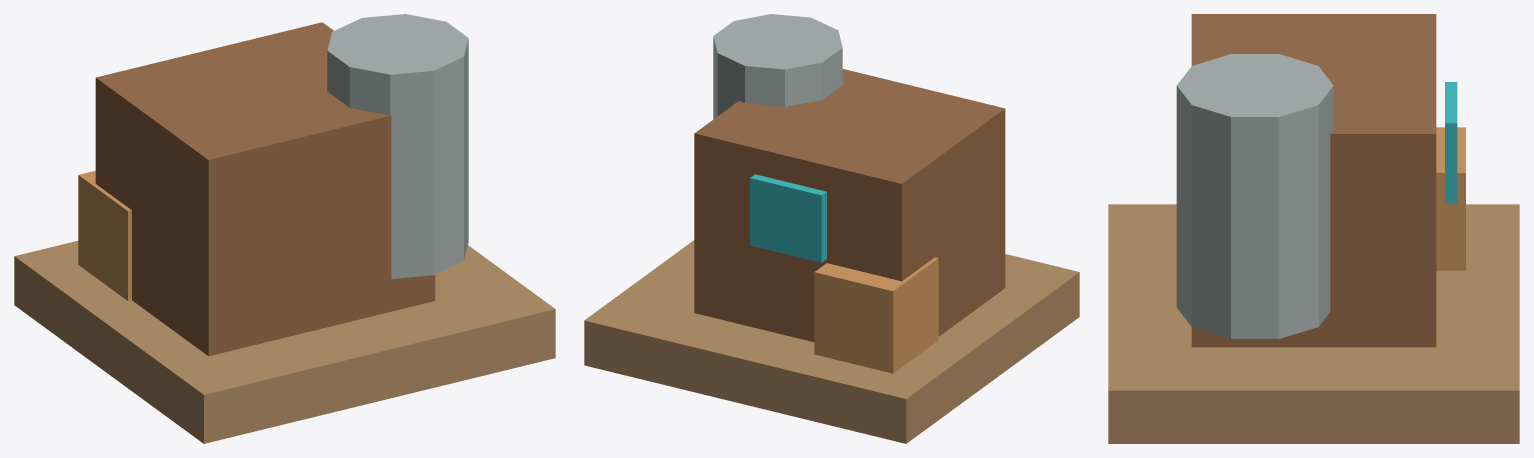
File: collection_station.glb
3 renders of one model, left to right at view 1: azimuth 30°, elevation 25°; view 2: azimuth 150°, elevation 25°; view 3: azimuth 270°, elevation 25°, orthographic. The views are drawn at different scales.
Parts seen in each view (by area): view 1: shed, foundation, tank, crate; view 2: shed, foundation, crate, tank, panel; view 3: foundation, shed, tank, crate, panel.
Boxes of the visible parts, bbox=[...] form: shed: bbox=[95, 22, 435, 356]; foundation: bbox=[14, 240, 555, 443]; tank: bbox=[327, 14, 468, 278]; crate: bbox=[78, 170, 131, 300]; shed: bbox=[694, 69, 1005, 342]; foundation: bbox=[584, 240, 1079, 443]; crate: bbox=[814, 257, 938, 373]; tank: bbox=[713, 14, 842, 119]; panel: bbox=[750, 174, 826, 262]; foundation: bbox=[1108, 204, 1519, 443]; shed: bbox=[1191, 14, 1436, 347]; tank: bbox=[1176, 54, 1333, 338]; crate: bbox=[1436, 127, 1465, 270]; panel: bbox=[1445, 82, 1457, 203].
Bounding box in the file's own units: 0.9 × 0.7 × 0.84.
